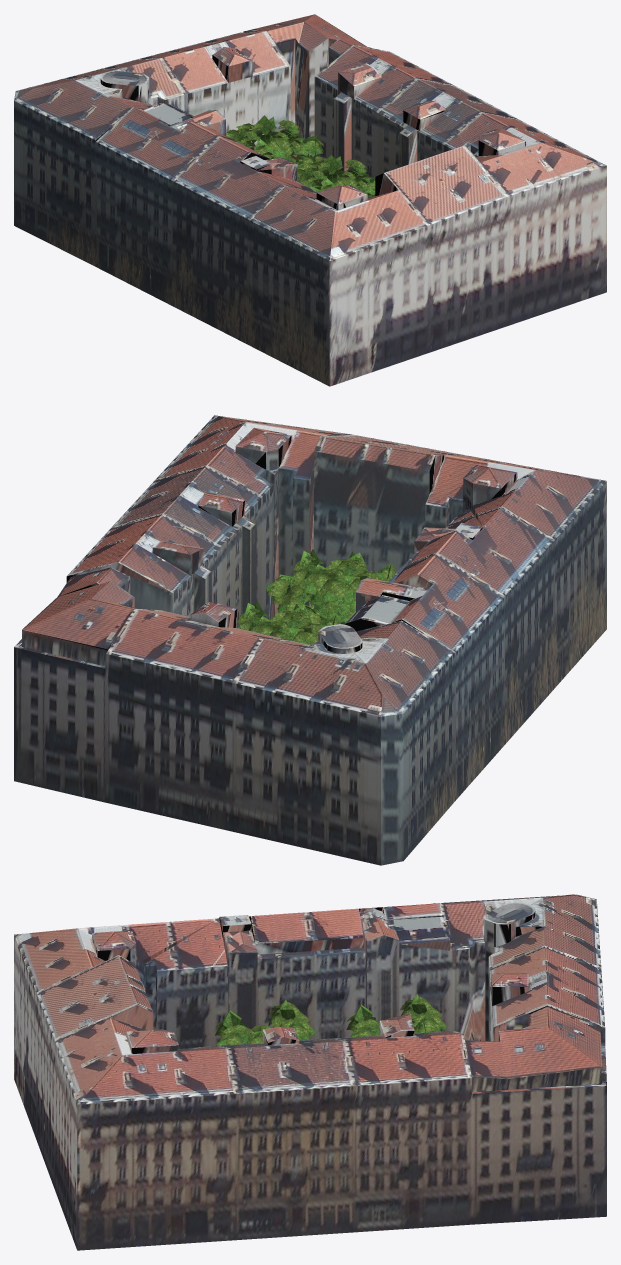
File: Cours_commune_2012.dae
3 views of the same model, one above another, from view 1: azimuth 30°, elevation 25°; view 2: azimuth 150°, elevation 25°; view 3: azimuth 270°, elevation 25° (orthographic). The views are drawn at different scales.
Parts seen in each view (by area): view 1: Batiments, Toit, Feuiles; view 2: Batiments, Toit, Feuiles; view 3: Batiments, Toit, Feuiles.
Boxes of the visible parts, <box> form: Batiments: <box>14,32,606,386</box>; Toit: <box>14,14,606,260</box>; Feuiles: <box>226,115,375,197</box>; Batiments: <box>14,415,606,865</box>; Toit: <box>22,415,606,716</box>; Feuiles: <box>237,549,396,645</box>; Batiments: <box>14,894,606,1250</box>; Toit: <box>14,894,605,1104</box>; Feuiles: <box>215,994,446,1045</box>.
Bounding box in the file's own units: 72.49 × 85.69 × 29.15.
